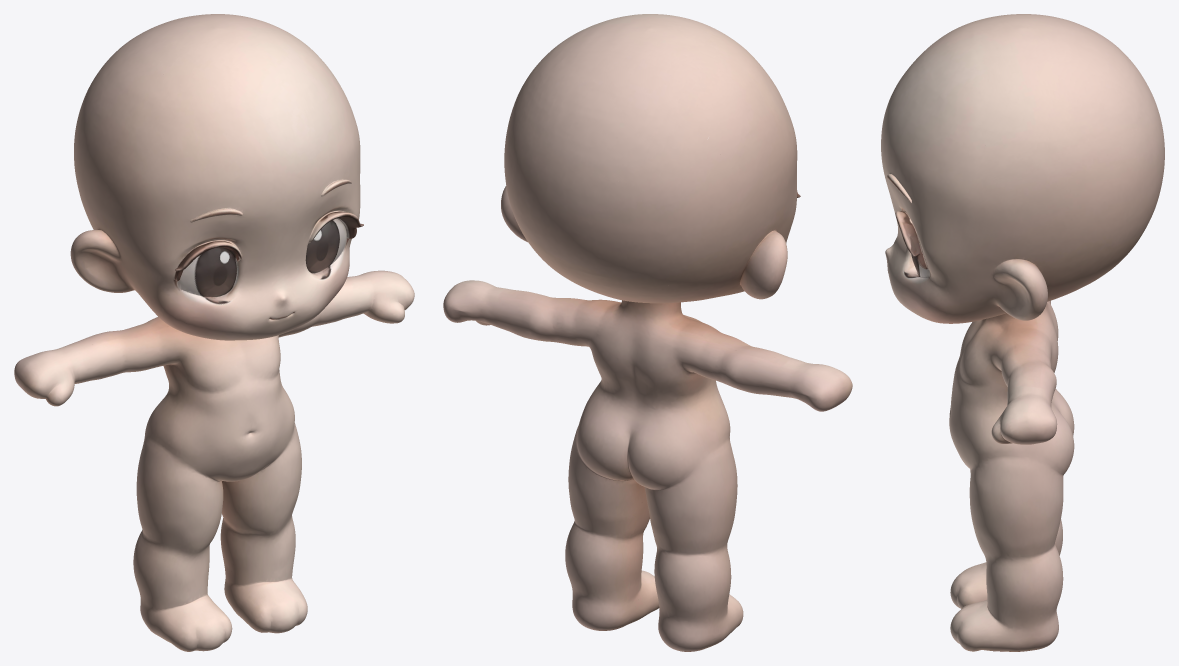
Rendered from chibi_rich_body.glb.
3 views of the same model, side by side, from view 1: azimuth 30°, elevation 25°; view 2: azimuth 150°, elevation 25°; view 3: azimuth 270°, elevation 25° (orthographic). The views are drawn at different scales.
Parts seen in each view (by area): view 1: tripo_node_cc378d6c-3ed5-4193-af33-1d20f37d5c78; view 2: tripo_node_cc378d6c-3ed5-4193-af33-1d20f37d5c78; view 3: tripo_node_cc378d6c-3ed5-4193-af33-1d20f37d5c78.
Boxes of the visible parts, x1,y1,x2,y2 form: tripo_node_cc378d6c-3ed5-4193-af33-1d20f37d5c78: [14, 14, 414, 651]; tripo_node_cc378d6c-3ed5-4193-af33-1d20f37d5c78: [443, 14, 852, 651]; tripo_node_cc378d6c-3ed5-4193-af33-1d20f37d5c78: [881, 14, 1164, 651].
Size of the model in its own units: 0.6846 by 1 by 0.4315.
1 material, 1 textured.
